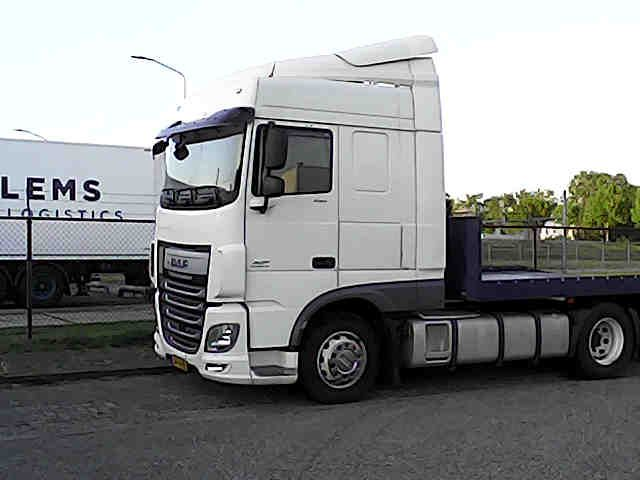whitevan: (151, 36, 639, 401), (0, 138, 161, 306)
